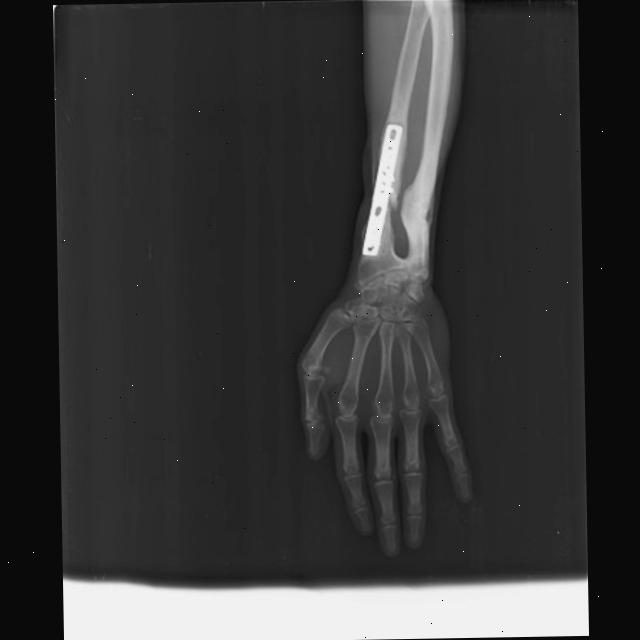fractured: (398, 174, 435, 236), (380, 159, 404, 233)
